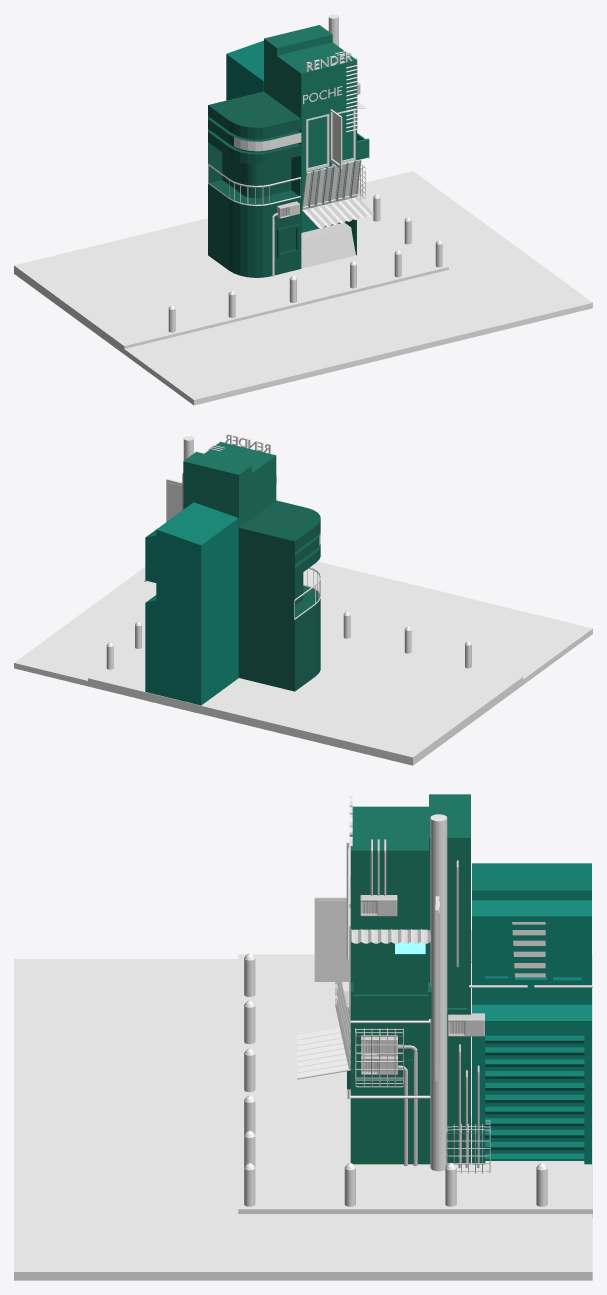
File: CYBER2.gltf
3 renders of one model, top to bottom at view 1: azimuth 30°, elevation 25°; view 2: azimuth 150°, elevation 25°; view 3: azimuth 270°, elevation 25°, orthographic. The views are drawn at different scales.
Parts seen in each view (by area): view 1: Cube, Cube.004, Cube.002, Cube.001, Cube.013, Cube.003, Plane, Cube.034, Cube.014, Plane.011; view 2: Cube, Cube.004, Cube.003, Cube.002, Cube.001, Plane.012; view 3: Cube, Cube.003, Cube.004, Cube.001, Cylinder.038, Plane.011, Plane, Cube.011, Plane.013, Cube.010, Cube.012, Cube.015 (+2 smaller).
Boxes of the visible parts, bbox=[...] form: Cube: bbox=[14, 171, 592, 405]; Cube.004: bbox=[14, 208, 448, 348]; Cube.002: bbox=[208, 91, 300, 277]; Cube.001: bbox=[264, 25, 369, 268]; Cube.013: bbox=[301, 222, 355, 268]; Cube.003: bbox=[226, 40, 263, 100]; Plane: bbox=[302, 196, 373, 228]; Cube.034: bbox=[234, 133, 301, 151]; Cube.014: bbox=[208, 163, 300, 206]; Plane.011: bbox=[331, 109, 342, 168]; Cube: bbox=[14, 561, 592, 765]; Cube.004: bbox=[88, 627, 523, 762]; Cube.003: bbox=[145, 502, 238, 705]; Cube.002: bbox=[239, 500, 320, 691]; Cube.001: bbox=[183, 441, 276, 677]; Plane.012: bbox=[166, 479, 182, 521]; Cube: bbox=[14, 959, 592, 1280]; Cube.003: bbox=[472, 863, 591, 1164]; Cube.004: bbox=[238, 954, 592, 1217]; Cube.001: bbox=[350, 794, 470, 1164]; Cylinder.038: bbox=[430, 814, 447, 1171]; Plane.011: bbox=[314, 897, 348, 981]; Plane: bbox=[297, 1028, 412, 1079]; Cube.011: bbox=[355, 1028, 403, 1087]; Plane.013: bbox=[351, 929, 430, 943]; Cube.010: bbox=[446, 1114, 490, 1173]; Cube.012: bbox=[448, 1013, 484, 1036]; Cube.015: bbox=[360, 895, 397, 916].
Bounding box in the file's own units: 12.32 × 6.68 × 9.63.
